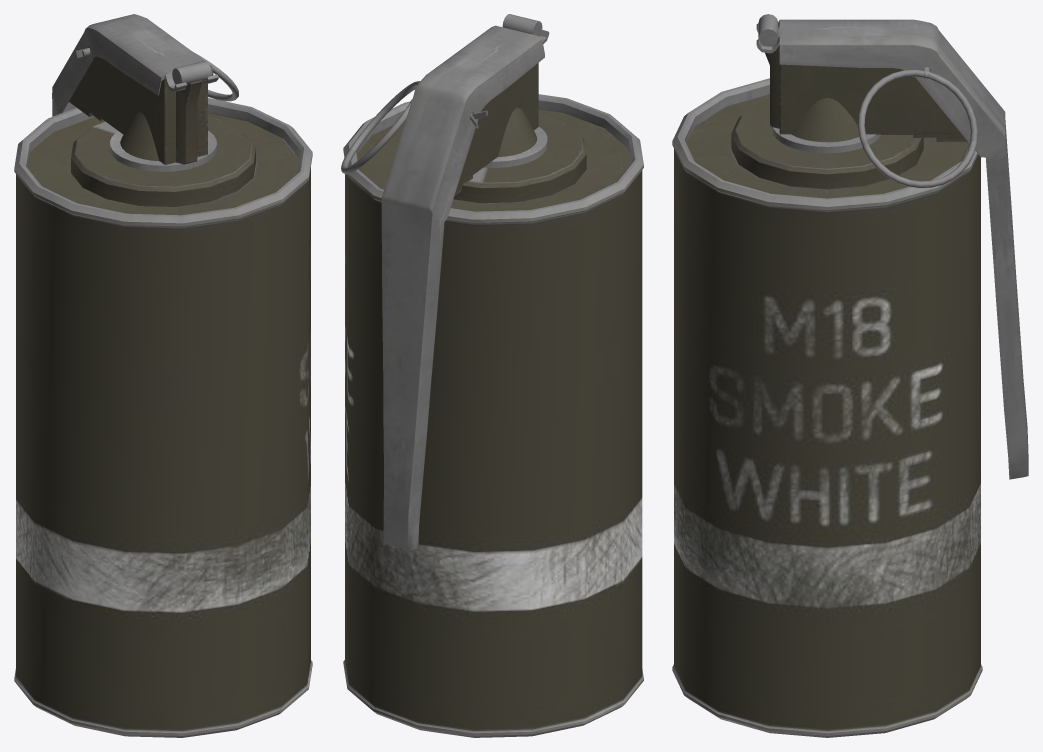
The model's file is bunker47-prop-smokeg.glb.
The picture shows the model from 3 angles, left to right: view 1: azimuth 30°, elevation 25°; view 2: azimuth 150°, elevation 25°; view 3: azimuth 270°, elevation 25°; orthographic projection. The views are drawn at different scales.
Visible parts, largest first — view 1: SmokeGrenade, Pin; view 2: SmokeGrenade, Pin; view 3: SmokeGrenade, Pin.
Boxes of the visible parts, x1,y1,x2,y2 form: SmokeGrenade: [14, 14, 312, 737]; Pin: [74, 48, 238, 101]; SmokeGrenade: [343, 14, 643, 737]; Pin: [341, 81, 487, 174]; SmokeGrenade: [672, 14, 1028, 737]; Pin: [858, 67, 977, 187].
Size of the model in its own units: 6.53 by 15.13 by 7.49.
1 material, 1 textured.
